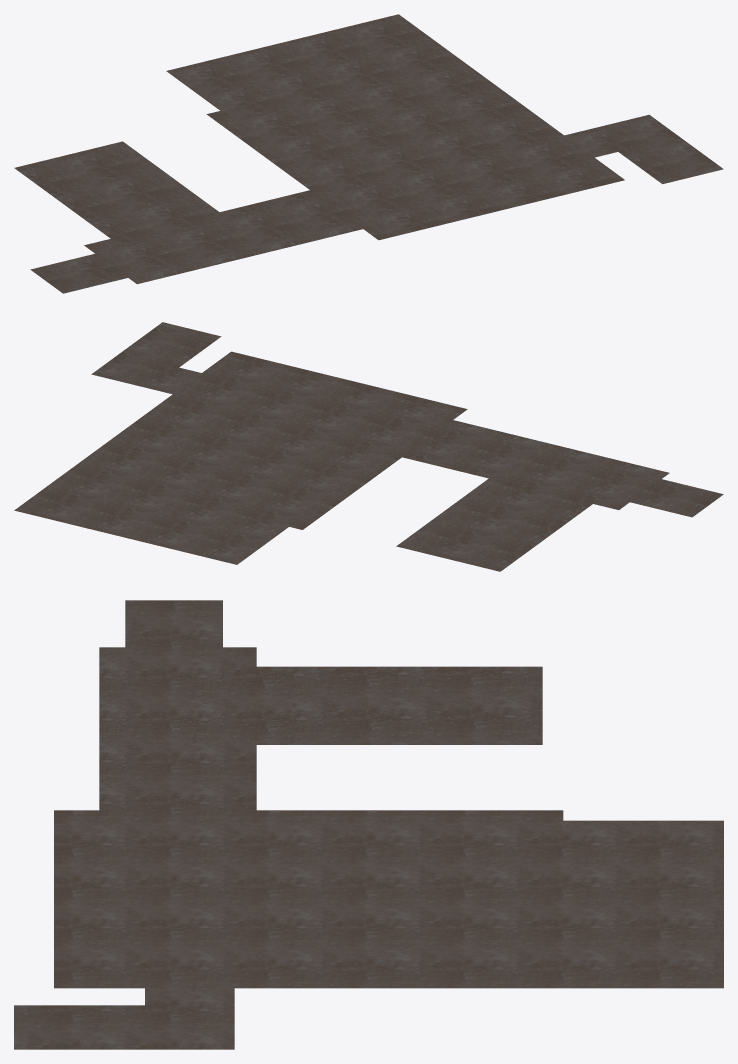
Rendered from floor.fbx.
The picture shows the model from 3 angles, top to bottom: view 1: azimuth 30°, elevation 25°; view 2: azimuth 150°, elevation 25°; view 3: azimuth 270°, elevation 25°; orthographic projection. The views are drawn at different scales.
Visible parts, largest first — view 1: floor; view 2: floor; view 3: floor.
Boxes of the visible parts, bbox=[...] form: floor: bbox=[14, 14, 723, 293]; floor: bbox=[14, 322, 723, 571]; floor: bbox=[14, 600, 723, 1049].
Bounding box in the file's own units: 31.84 × 0 × 21.26.
